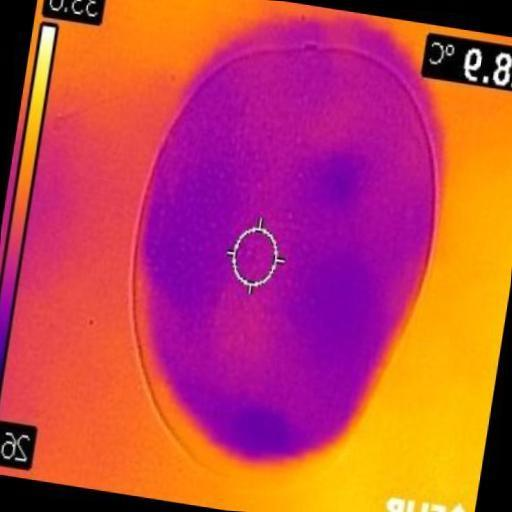alphanso: (133, 47, 434, 491)
